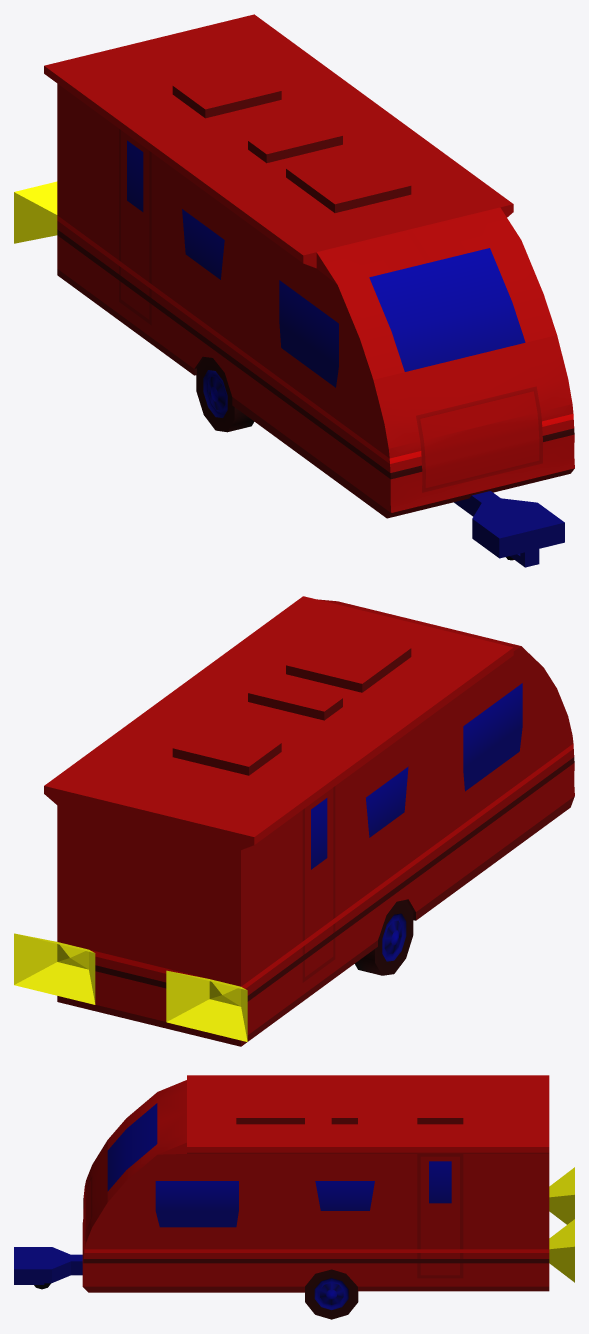
The model's file is buildings-residential-caravan_v1.fbx.
3 renders of one model, top to bottom at view 1: azimuth 30°, elevation 25°; view 2: azimuth 150°, elevation 25°; view 3: azimuth 270°, elevation 25°, orthographic. The views are drawn at different scales.
Parts seen in each view (by area): view 1: Caravan_base, Caravan_windowRefl, Caravan_refl, Caravan_light; view 2: Caravan_base, Caravan_light, Caravan_windowRefl, Caravan_refl; view 3: Caravan_base, Caravan_windowRefl, Caravan_refl, Caravan_light.
Part boxes in pixels (x1=…): Caravan_base: x1=44, y1=14, x2=574, y2=560; Caravan_windowRefl: x1=127, y1=140, x2=525, y2=387; Caravan_refl: x1=203, y1=370, x2=564, y2=567; Caravan_light: x1=14, y1=181, x2=57, y2=243; Caravan_base: x1=44, y1=596, x2=574, y2=1046; Caravan_light: x1=14, y1=933, x2=247, y2=1041; Caravan_windowRefl: x1=311, y1=683, x2=522, y2=869; Caravan_refl: x1=382, y1=913, x2=406, y2=961; Caravan_base: x1=34, y1=1075, x2=549, y2=1319; Caravan_windowRefl: x1=107, y1=1103, x2=451, y2=1227; Caravan_refl: x1=14, y1=1247, x2=348, y2=1310; Caravan_light: x1=549, y1=1167, x2=574, y2=1282.
Bounding box in the file's own units: 3.02 × 3.25 × 8.98.
